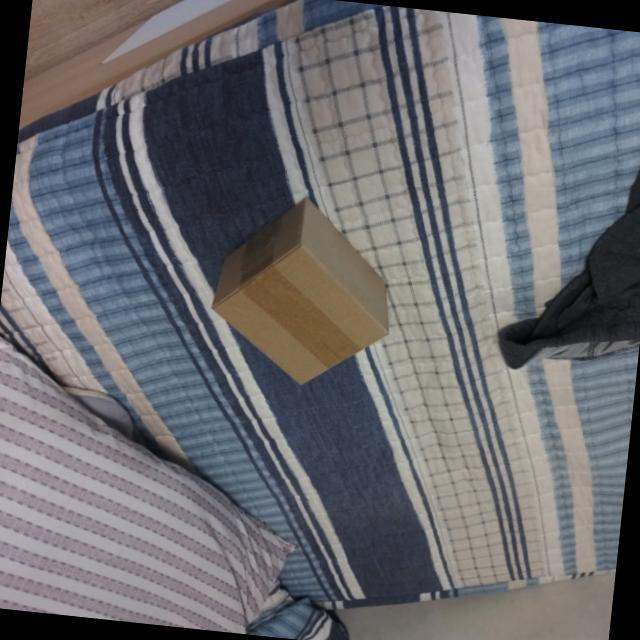box: (198, 184, 406, 399)
